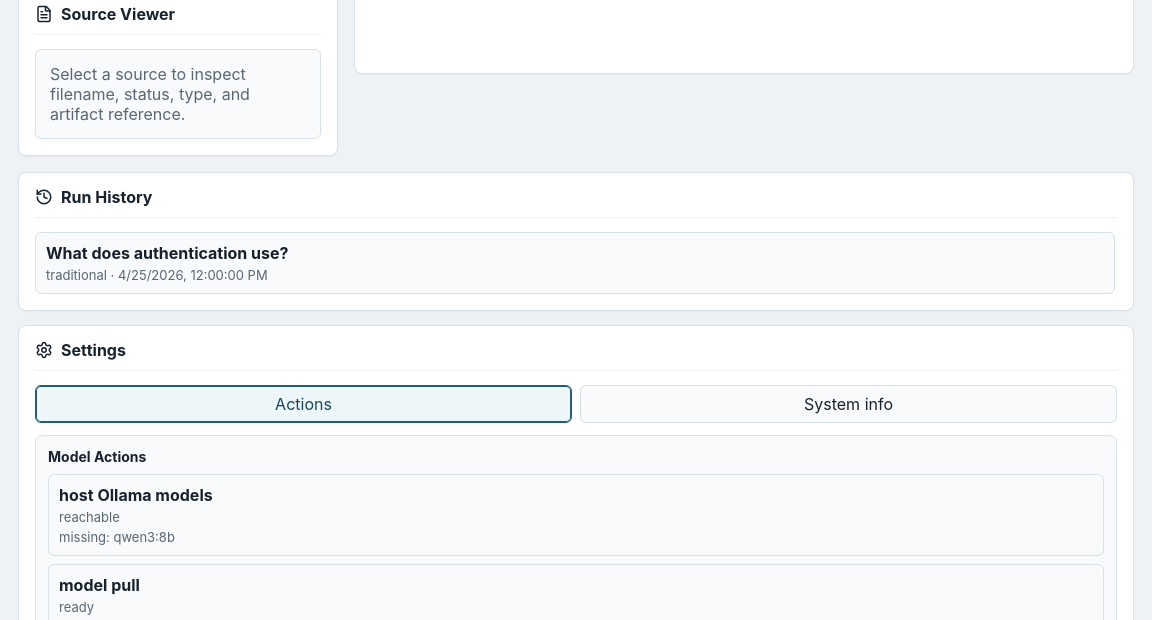
Test: APRAG-Lab UI › opens history without rerunning and displays comparison exports
(page scrolled)
Check: the text "What does authentication use?" is shown, box left=46, top=243, right=288, bottom=263
Click the button "What does authentication use" at (167,253), box left=35, top=232, right=1115, bottom=294
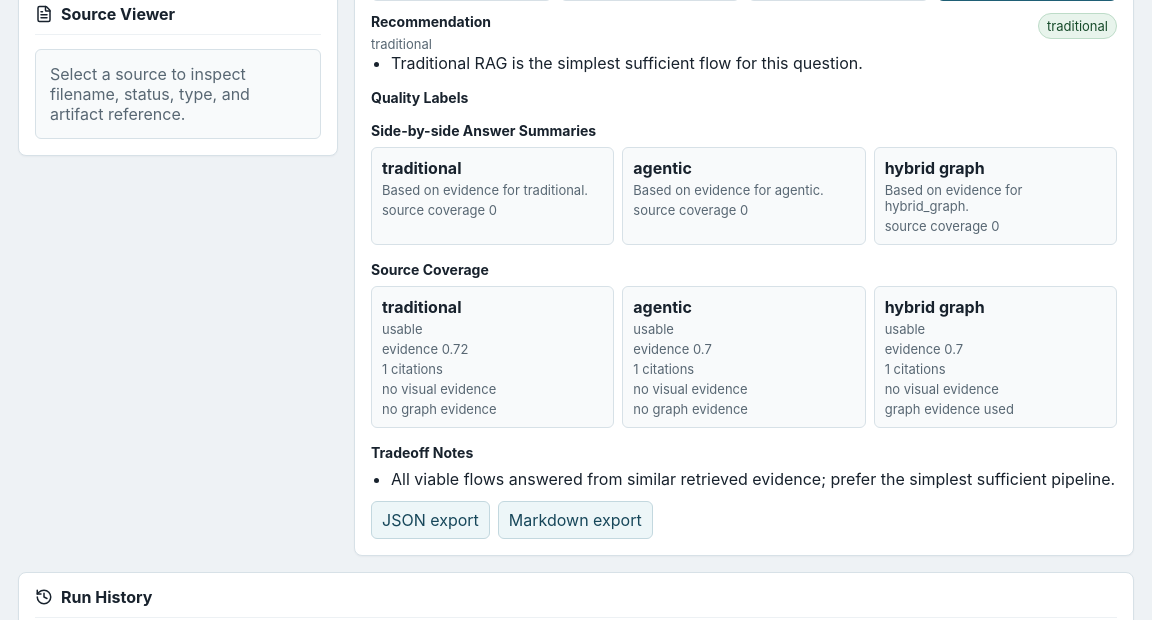
Check: the heading "Recommendation" is shown, box left=371, top=13, right=491, bottom=30
Check: the heading "Quality Labels" is shown, box left=371, top=89, right=468, bottom=106
Check: the heading "Side-by-side Answer Summaries" is shown, box left=371, top=122, right=596, bottom=139
